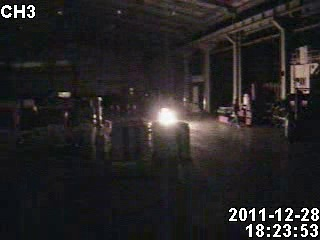fire: (154, 101, 179, 130)
